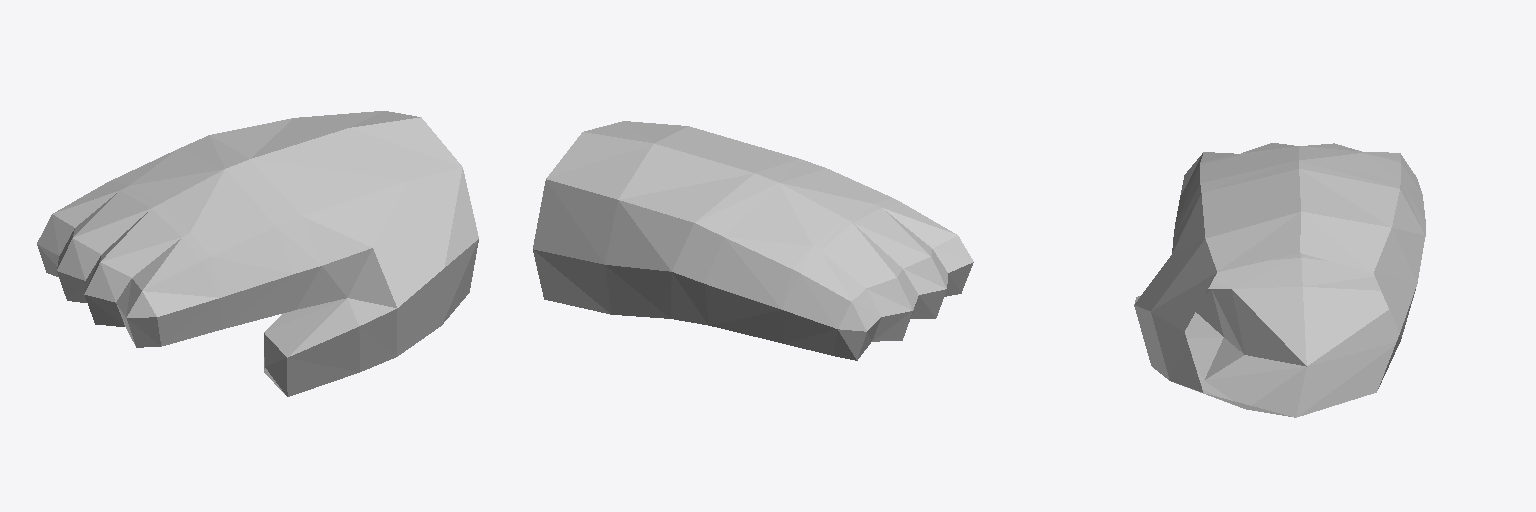
File: hand_R.obj
3 renders of one model, left to right at view 1: azimuth 30°, elevation 25°; view 2: azimuth 150°, elevation 25°; view 3: azimuth 270°, elevation 25°, orthographic.
Visible parts, largest first — view 1: KERORO; view 2: KERORO; view 3: KERORO.
Boxes of the visible parts, <box> form: KERORO: <box>37,111,478,396</box>; KERORO: <box>533,121,973,360</box>; KERORO: <box>1134,143,1425,417</box>.
Bounding box in the file's own units: 1.33 × 0.6858 × 0.9548.